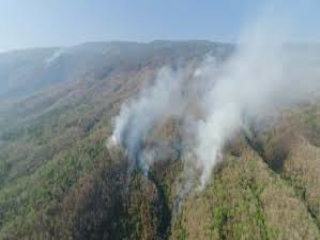smoke: (104, 53, 268, 190)
